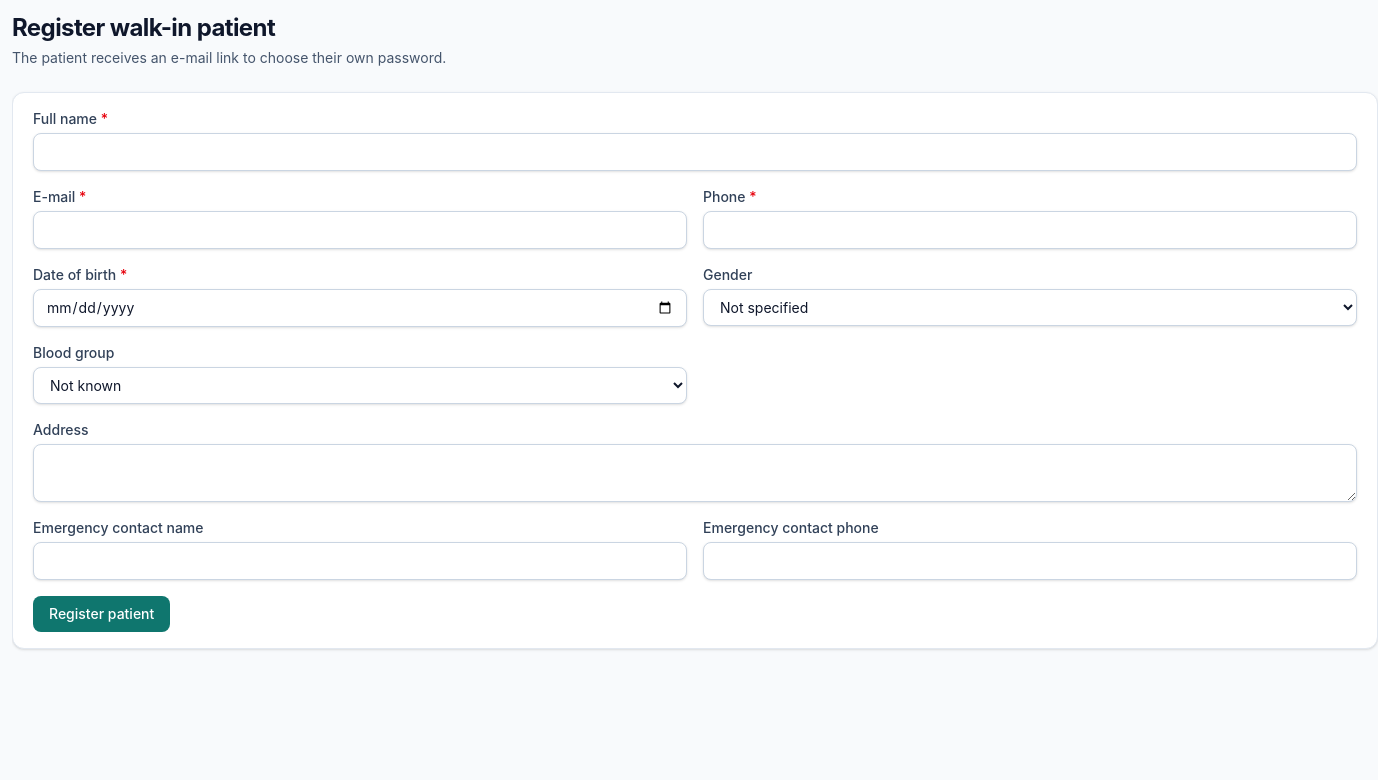
Test: RegisterWalkInPage › registers the patient without a password and offers booking
In the field labelled "Full name *": (695, 152) left=33, top=133, right=1357, bottom=171, type "Test Walkin"
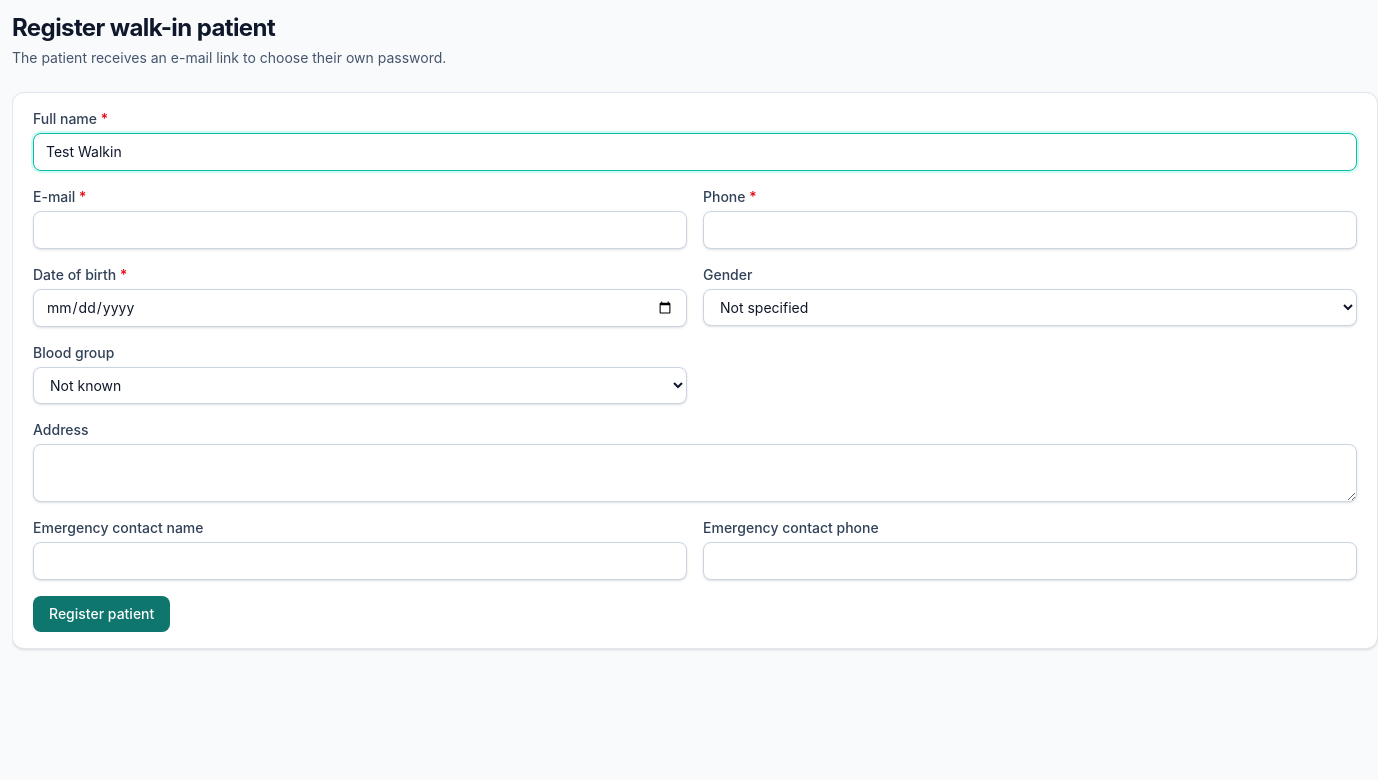
In the field labelled "E-mail *": (360, 230) left=33, top=211, right=687, bottom=249, type "walkin@test.example"
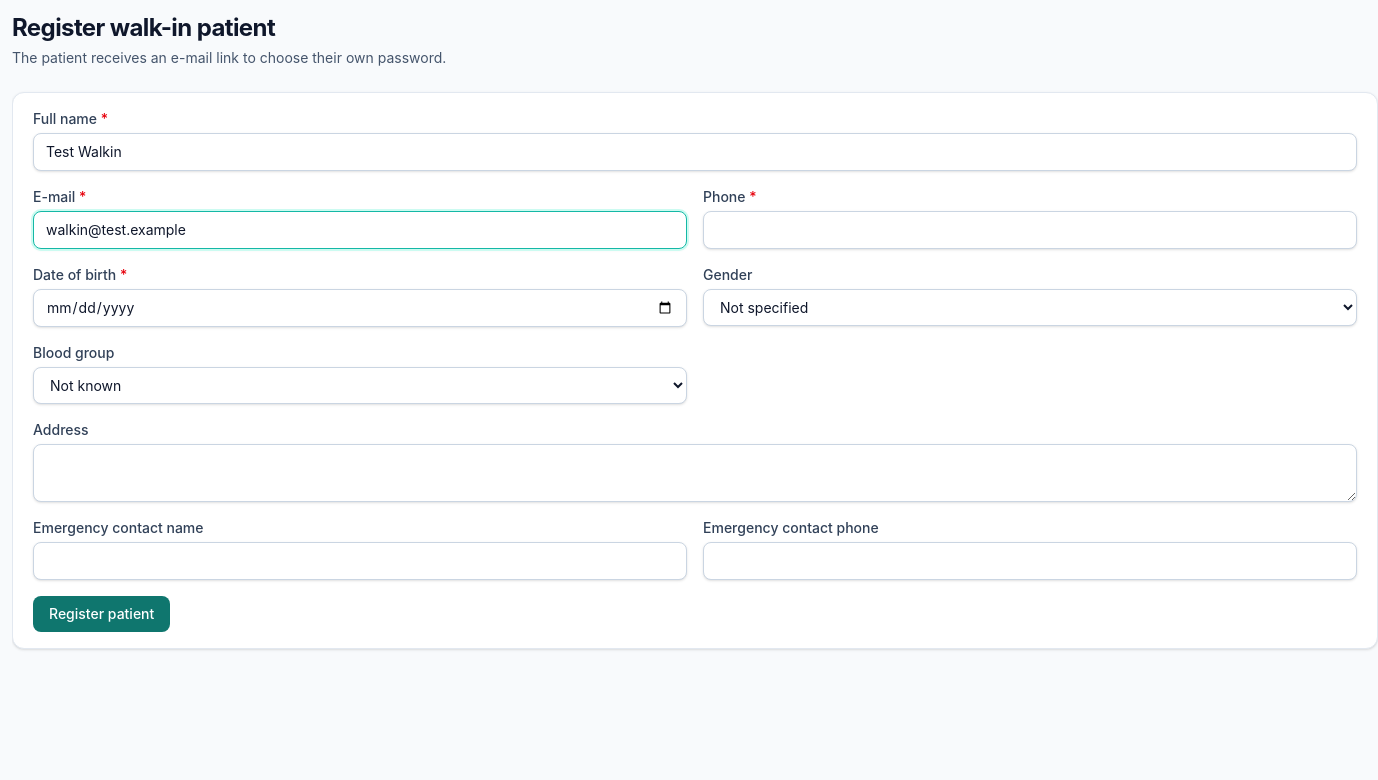
In the field labelled "Phone *": (1030, 230) left=703, top=211, right=1357, bottom=249, type "+919800000001"
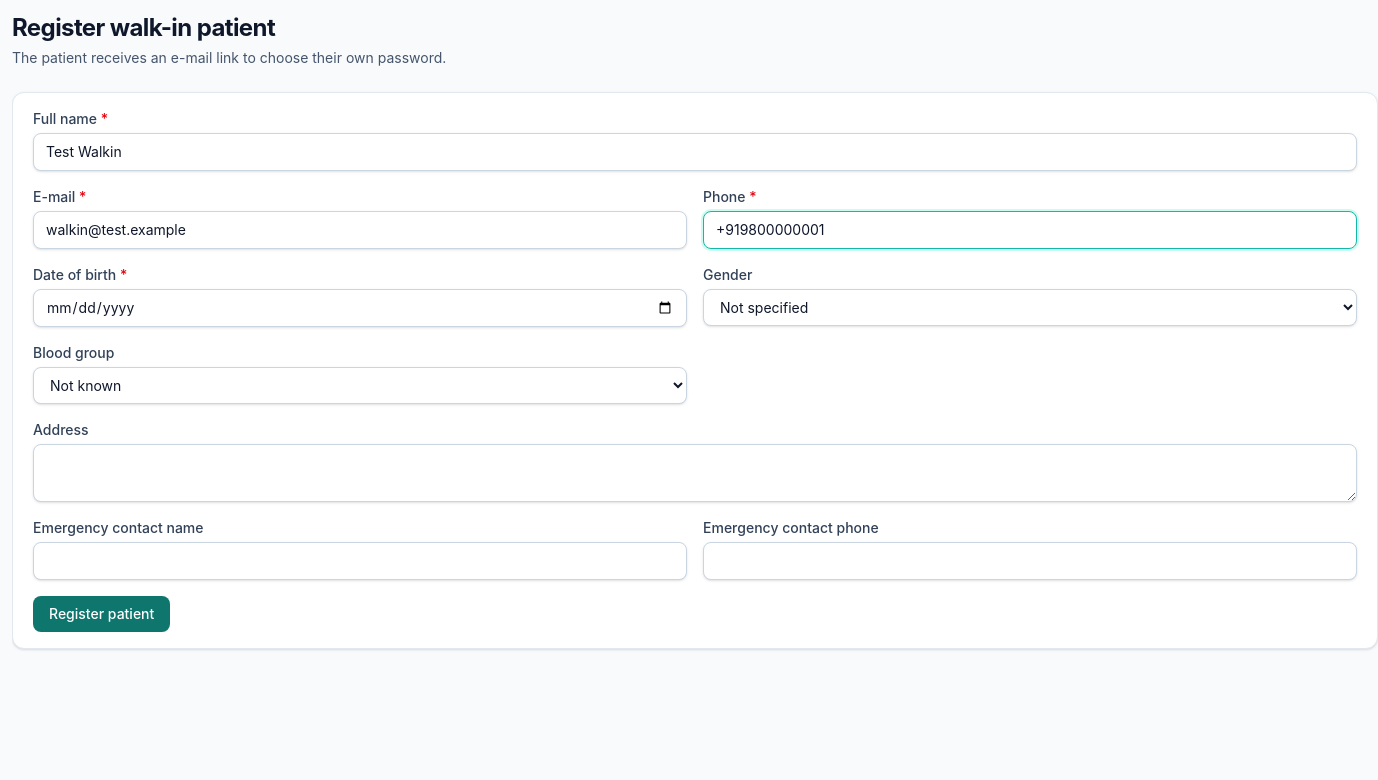
In the date field labelled "Date of birth *": (360, 308) left=33, top=289, right=687, bottom=327, type "1990-05-01"
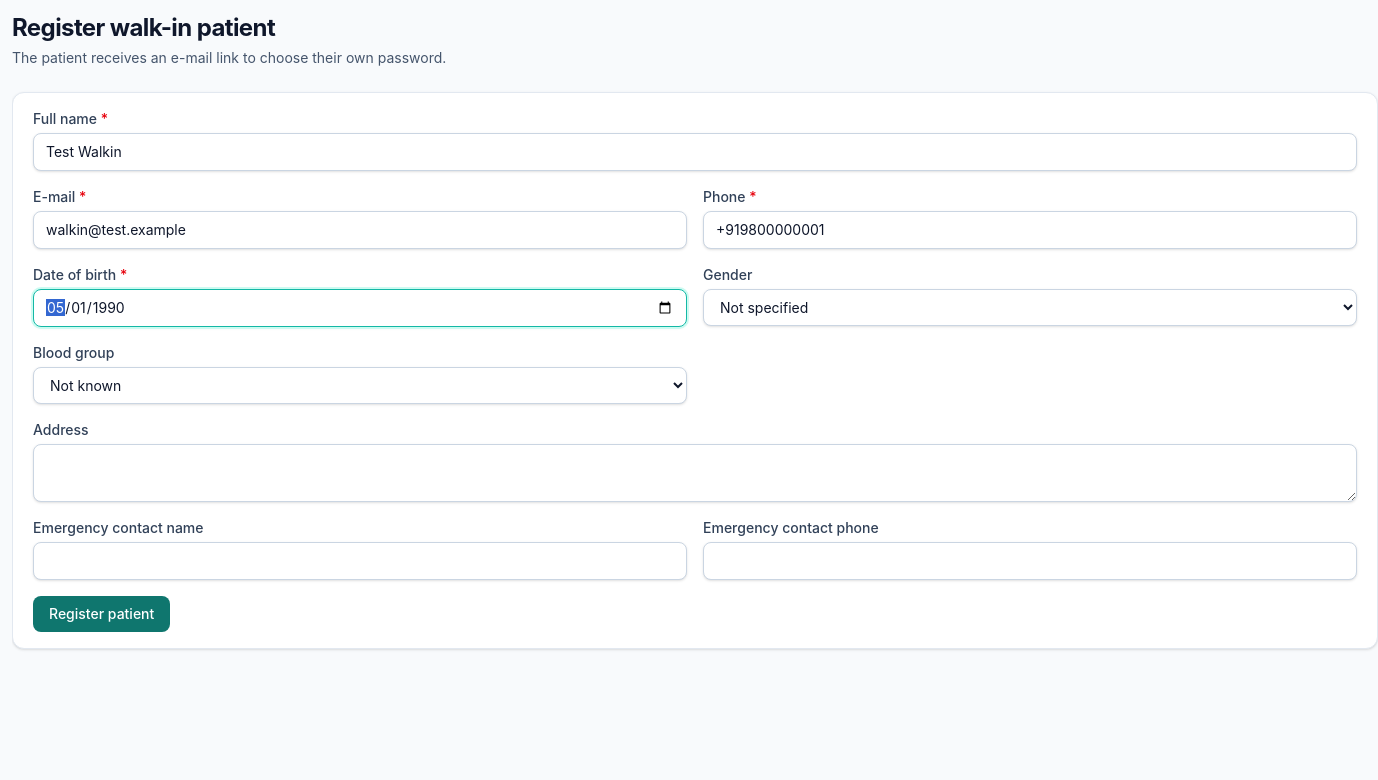
Click the button "Register patient": (102, 614) left=33, top=596, right=170, bottom=632
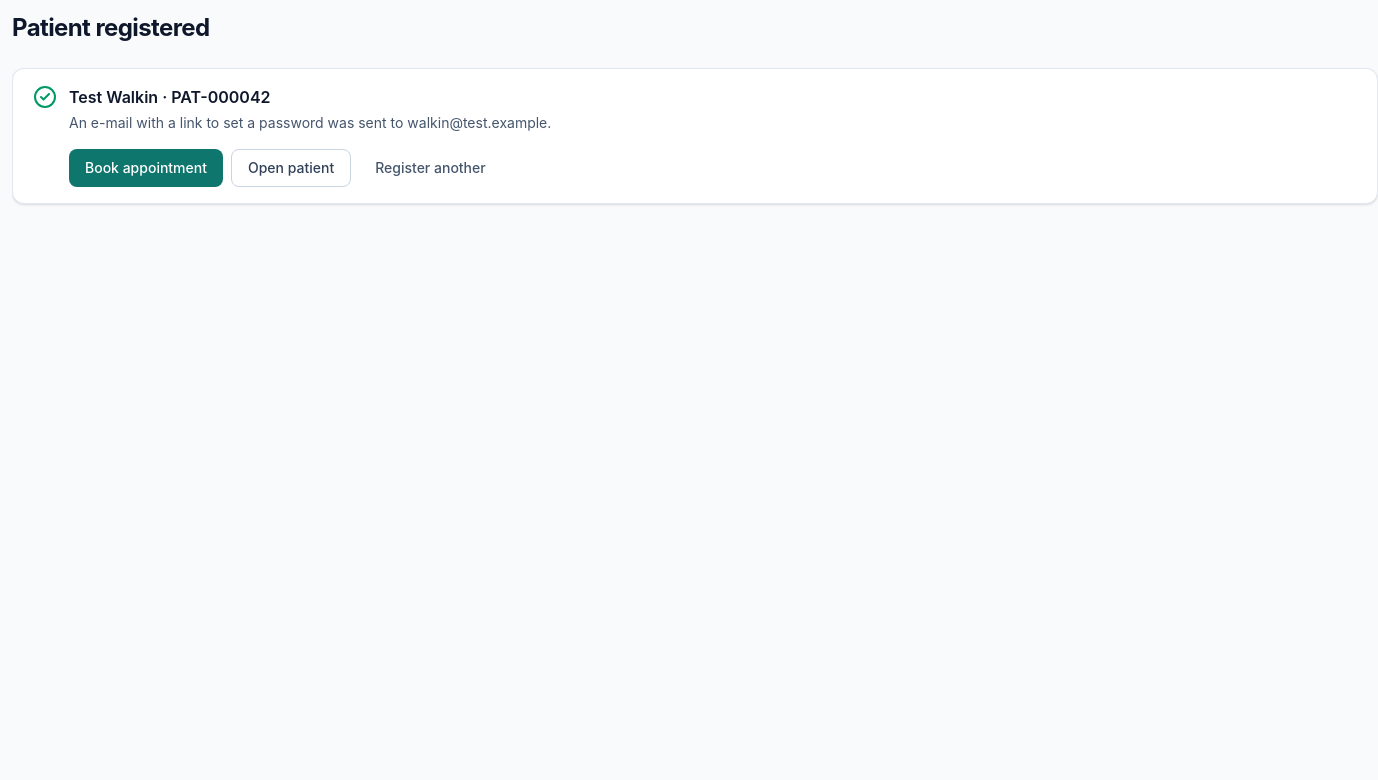
expect the text "Test Walkin · PAT-000042" is shown: met, box left=69, top=87, right=270, bottom=107
